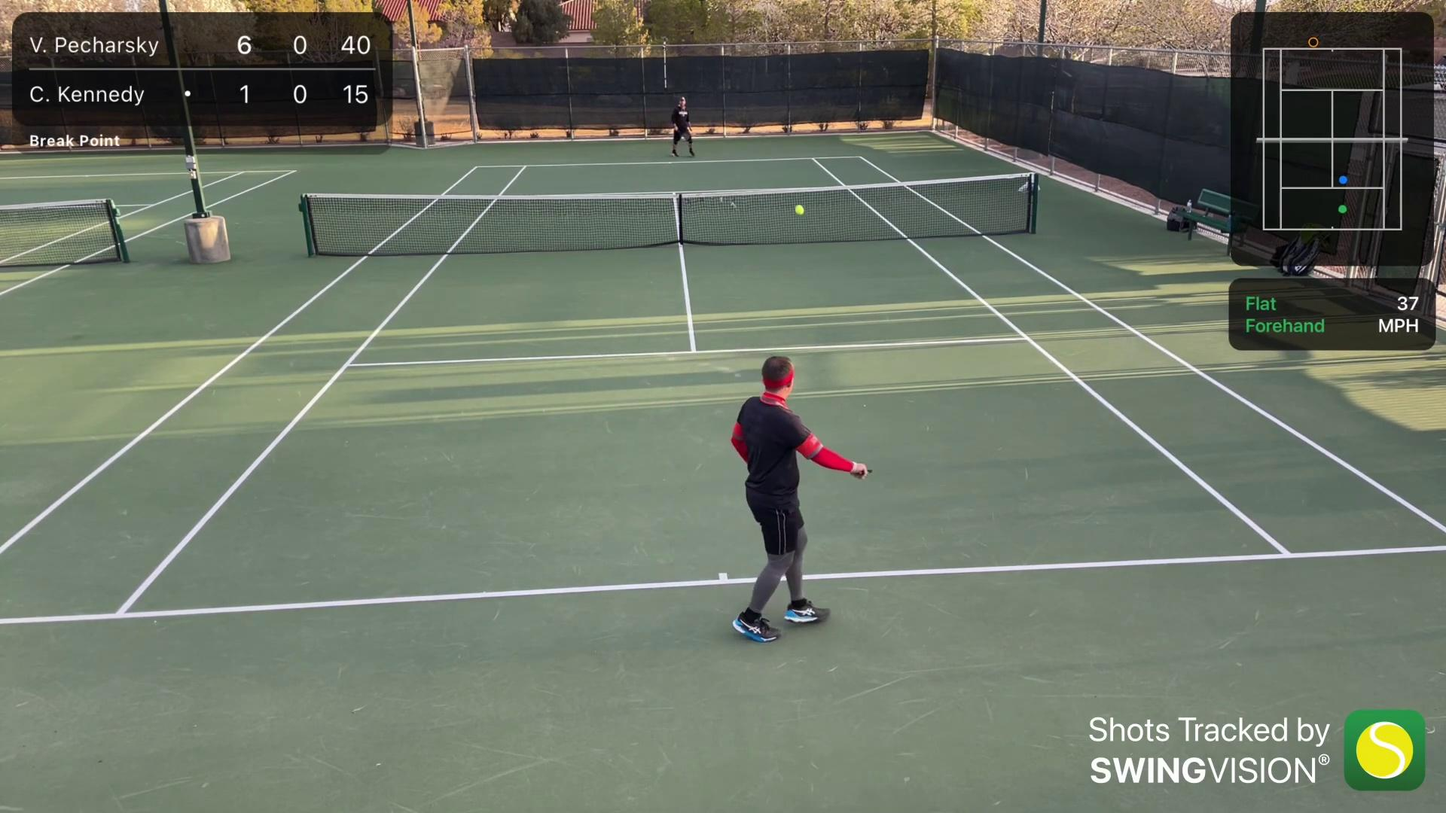ball: (793, 204, 806, 217)
